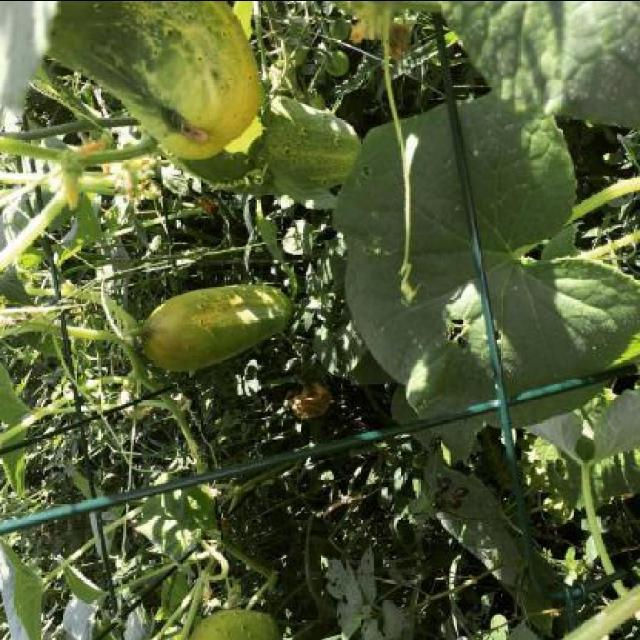Cucumber: (45, 12, 269, 162), (174, 94, 360, 197), (141, 282, 297, 373), (191, 608, 279, 640)
